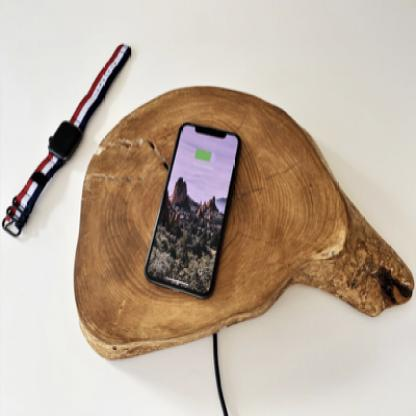cell-phone: (136, 119, 239, 304)
